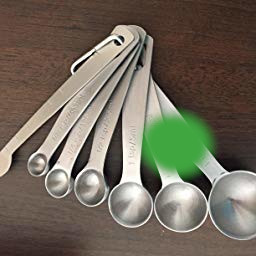focus: (135, 103, 217, 178)
